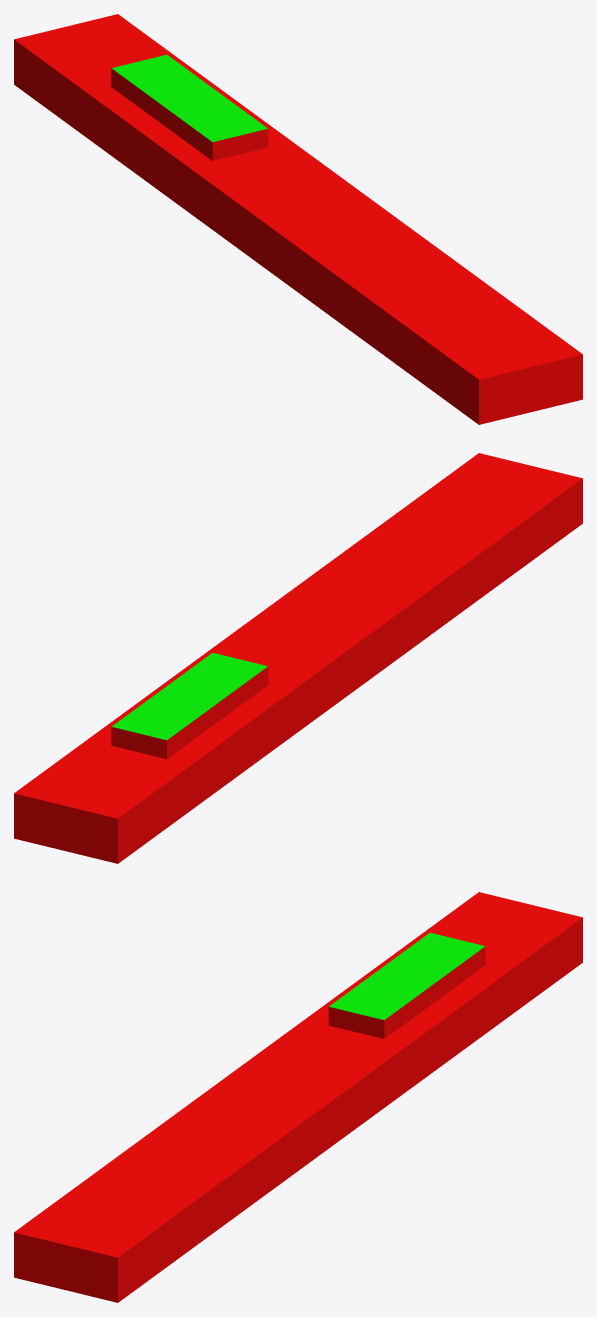
Rendered from labeled.obj.
The picture shows the model from 3 angles, top to bottom: view 1: azimuth 30°, elevation 25°; view 2: azimuth 150°, elevation 25°; view 3: azimuth 330°, elevation 25°; orthographic projection.
Bounding box in the file's own units: 0.0195 × 0.0115 × 0.1508.
